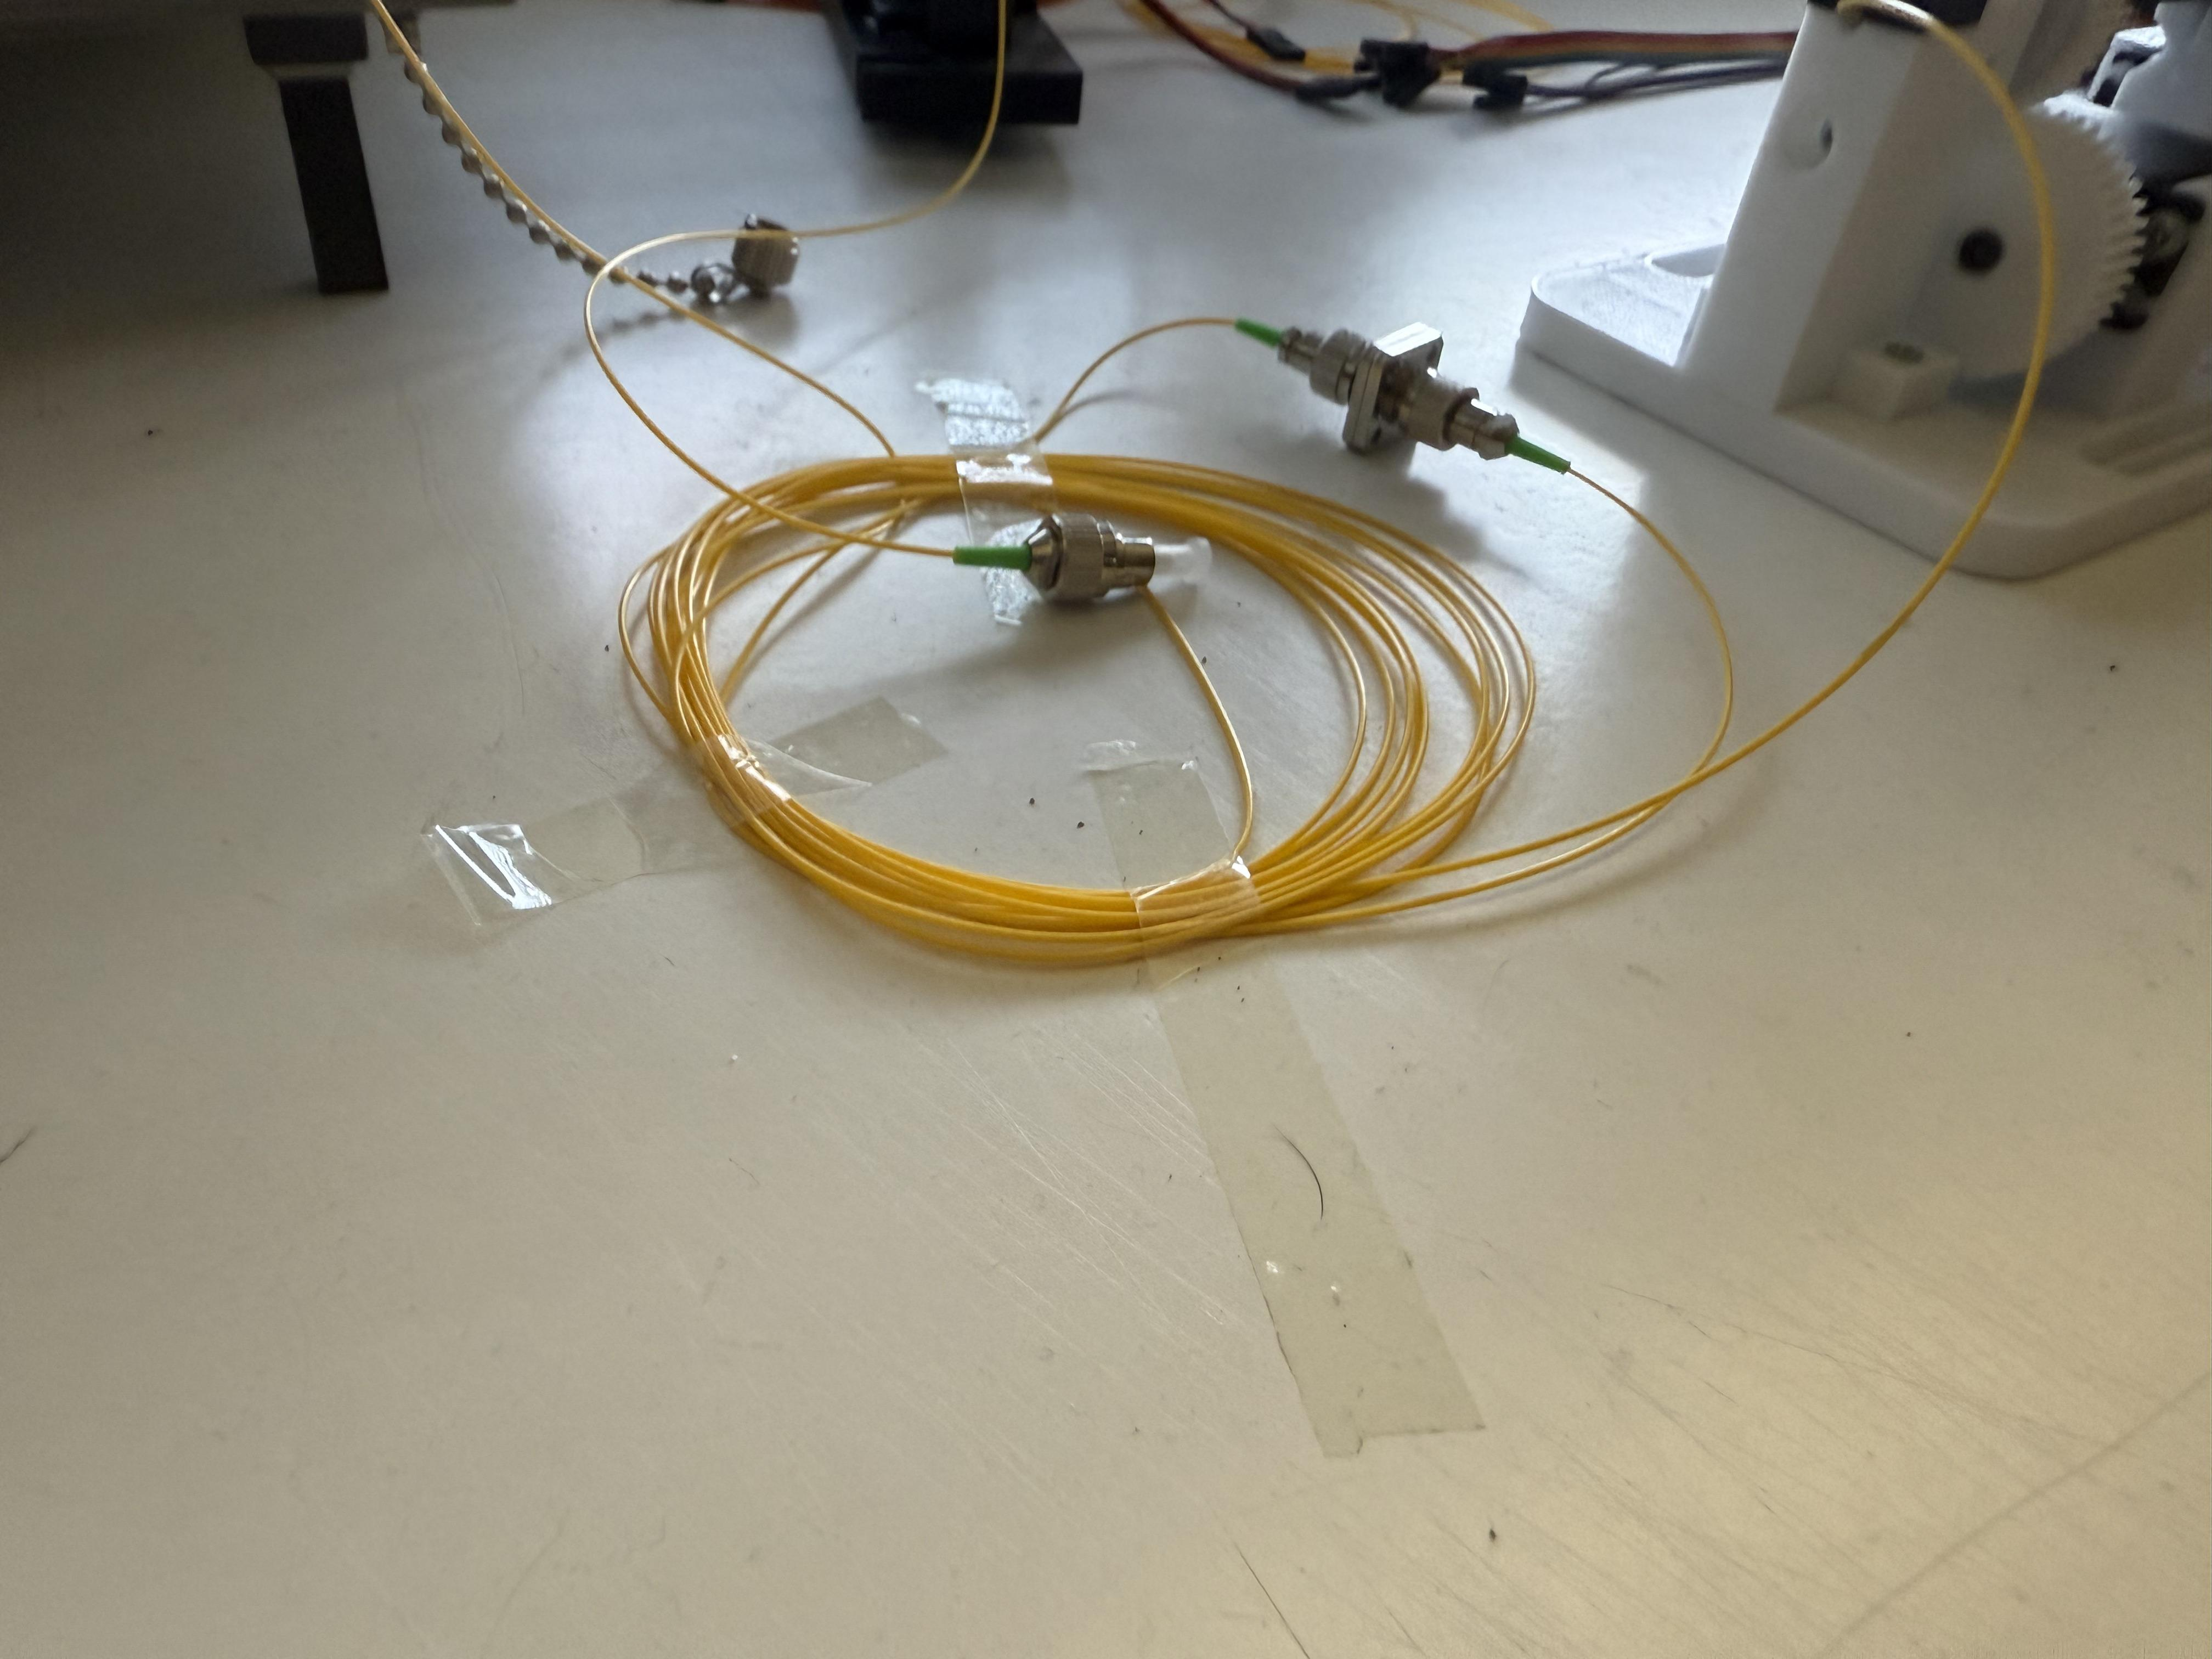fiber_cable: (526, 186, 1775, 969)
